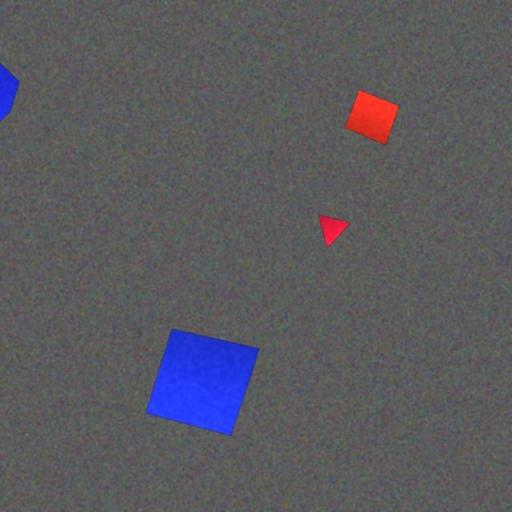BLUE_SQUARE: (145, 328, 260, 437)
RED_SQUARE: (345, 89, 401, 146)
